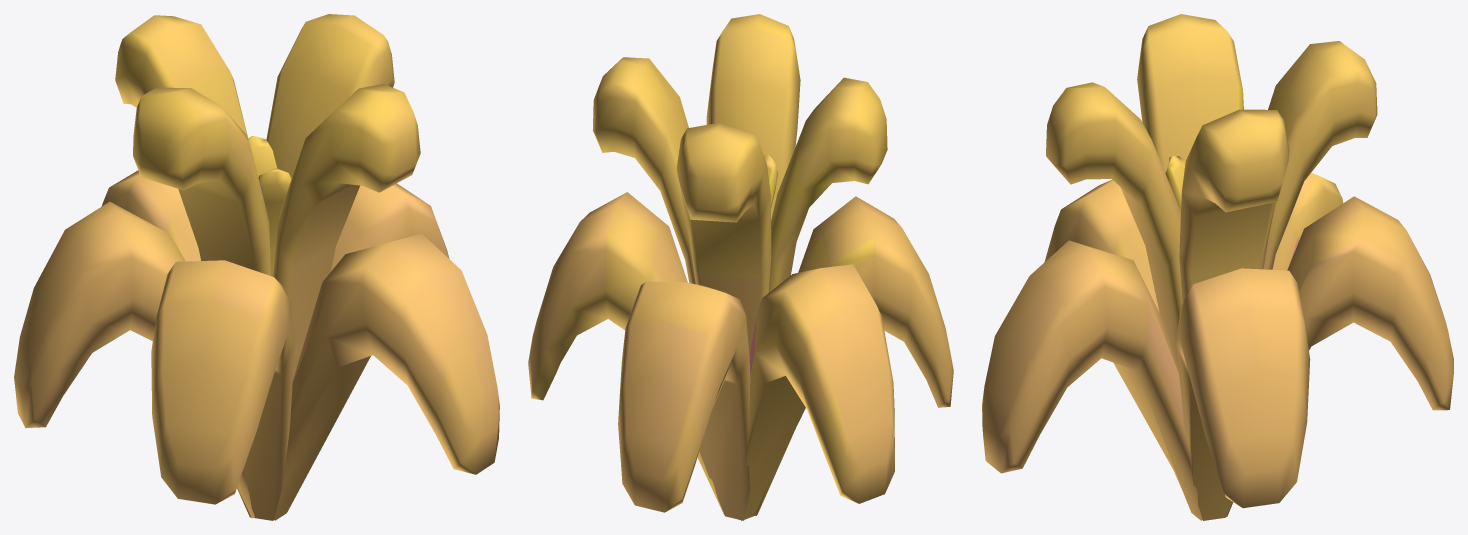
The model's file is pequeno_coral10.fbx.
3 renders of one model, left to right at view 1: azimuth 30°, elevation 25°; view 2: azimuth 150°, elevation 25°; view 3: azimuth 270°, elevation 25°, orthographic. The views are drawn at different scales.
Visible parts, largest first — view 1: Coral fuente.001; view 2: Coral fuente.001; view 3: Coral fuente.001.
Part boxes in pixels (<box>): Coral fuente.001: <box>14,14,499,520</box>; Coral fuente.001: <box>528,14,953,520</box>; Coral fuente.001: <box>982,14,1453,520</box>.
Size of the model in its own units: 756 by 837 by 800.
1 material, 1 textured.
